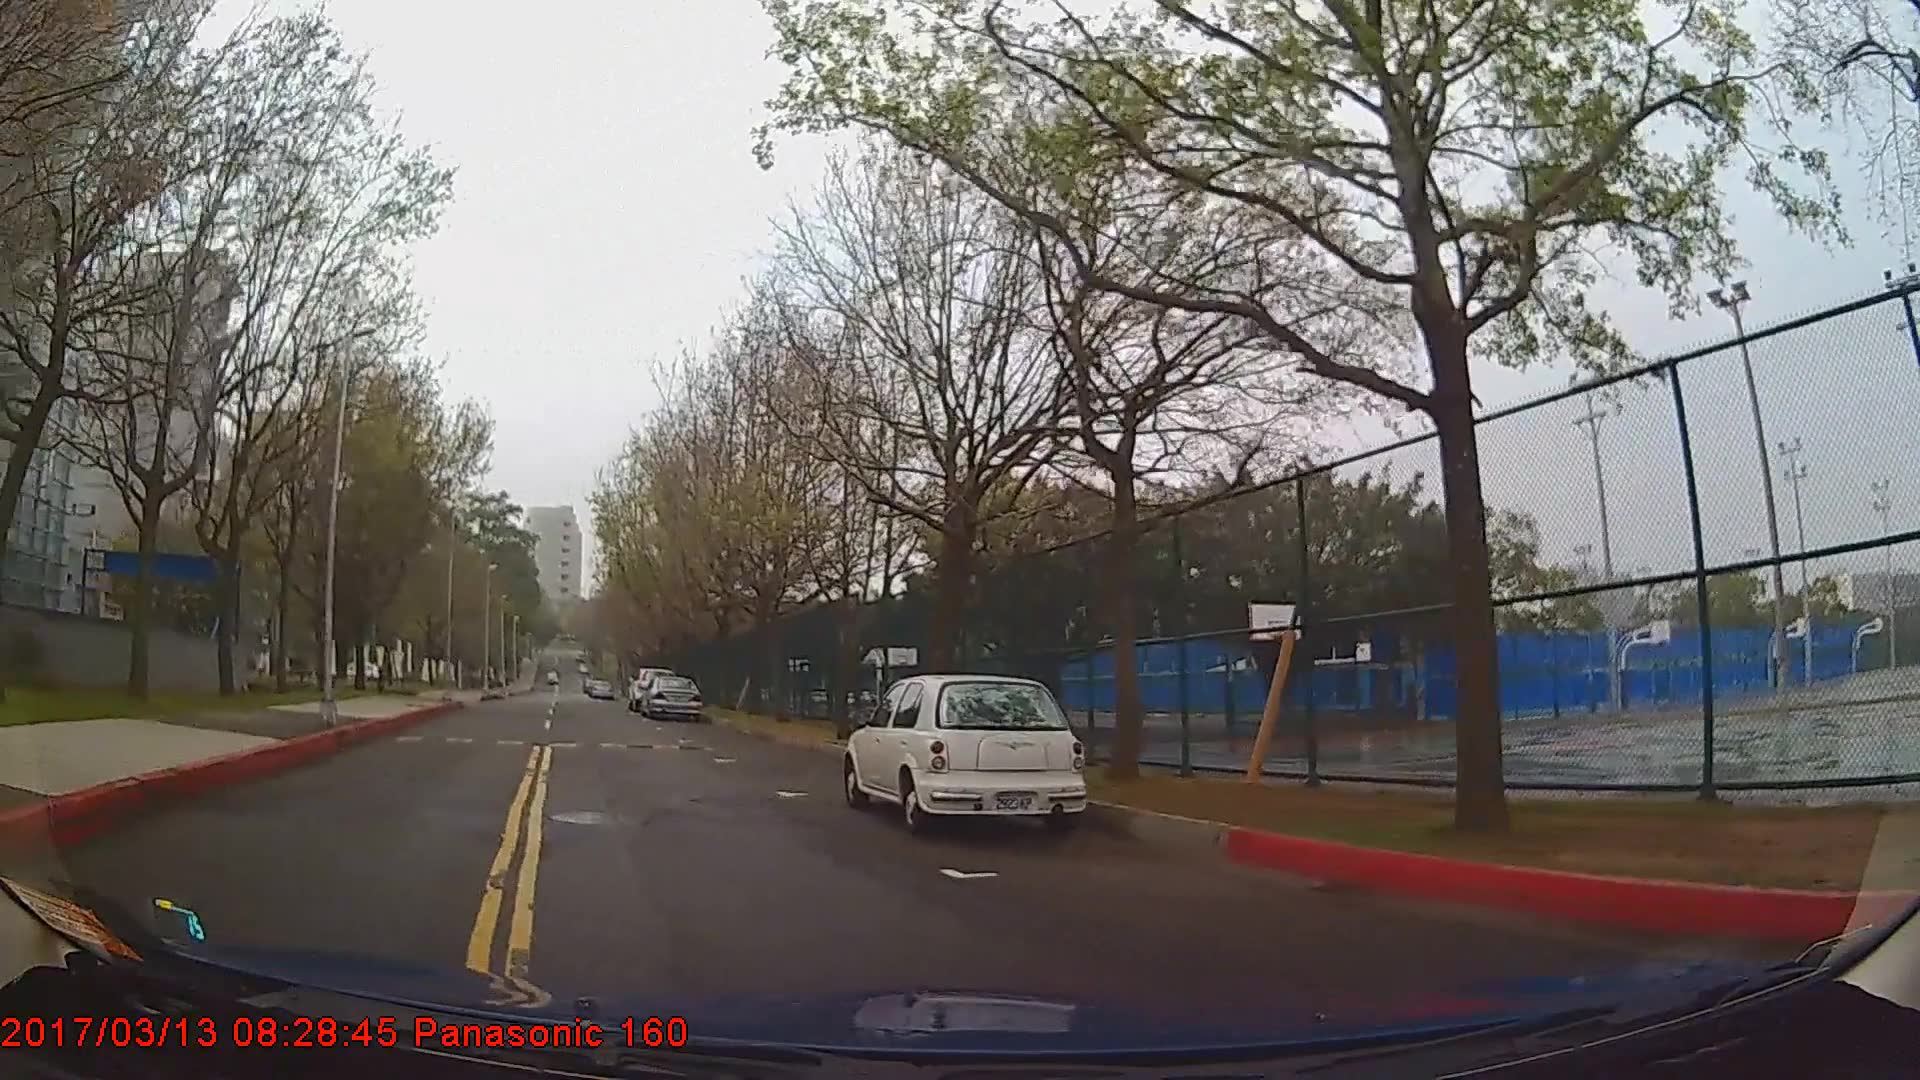vehicle: (839, 673, 1087, 832), (644, 674, 703, 715)
